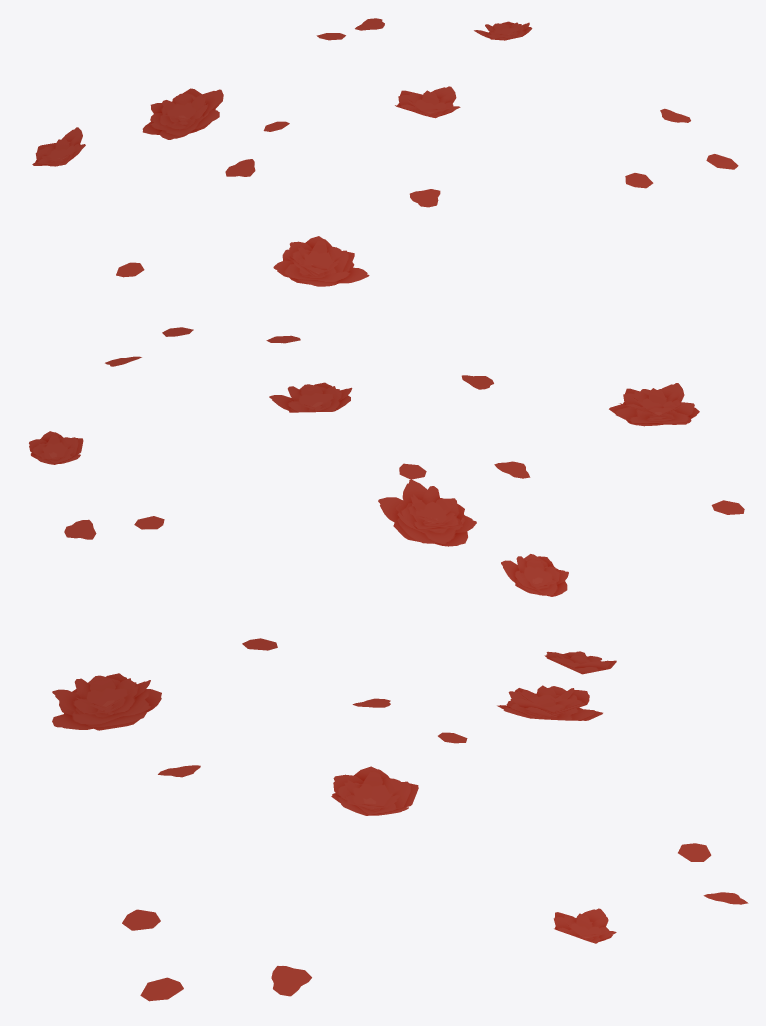
Rendered from SM_Env_Rose_Plane_01.fbx.
3 renders of one model, top to bottom at view 1: azimuth 30°, elevation 25°; view 2: azimuth 150°, elevation 25°; view 3: azimuth 270°, elevation 25°, orthographic. The views are drawn at different scales.
Visible parts, largest first — view 1: SM_Env_Rose_Plane_01; view 2: SM_Env_Rose_Plane_01; view 3: SM_Env_Rose_Plane_01.
Part boxes in pixels (<box>): SM_Env_Rose_Plane_01: <box>32,18,738,286</box>; SM_Env_Rose_Plane_01: <box>29,327,744,596</box>; SM_Env_Rose_Plane_01: <box>52,638,748,1001</box>.
Bounding box in the file's own units: 195 × 19.74 × 161.
